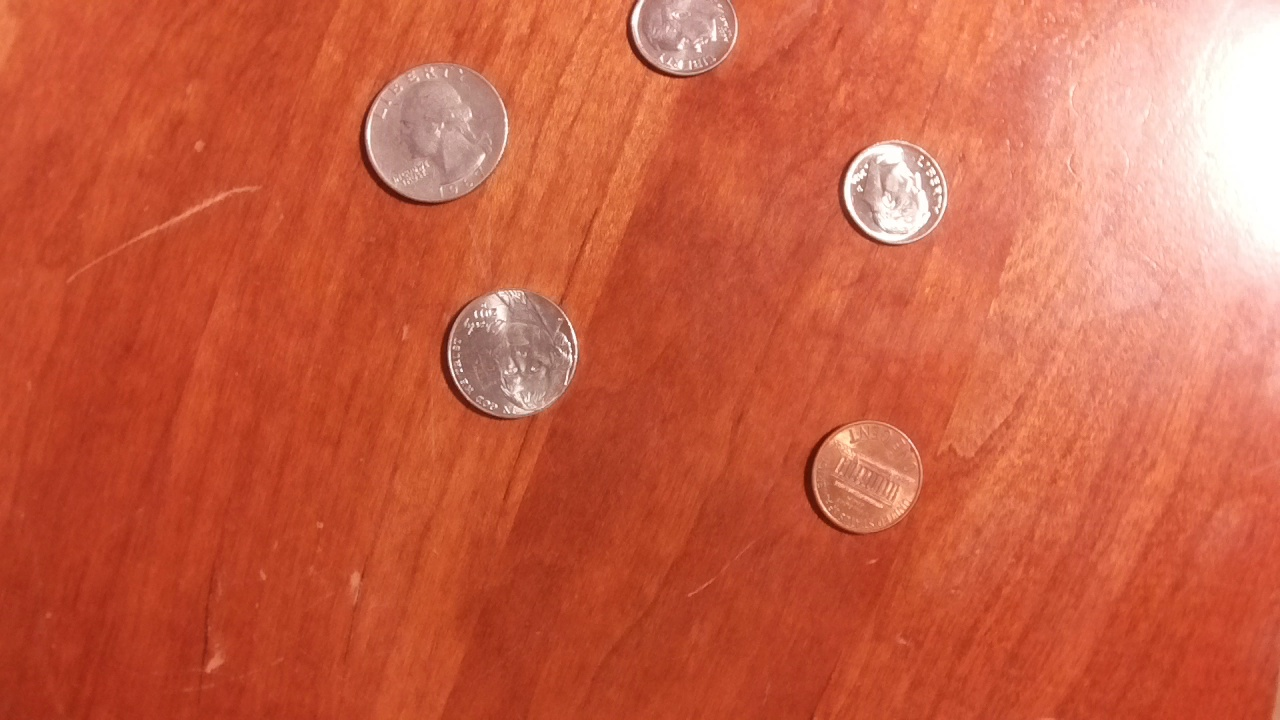dime: (837, 136, 951, 250), (625, 0, 741, 81)
nickel: (438, 282, 584, 424)
penny: (805, 414, 925, 538)
quarter: (361, 57, 509, 209)
